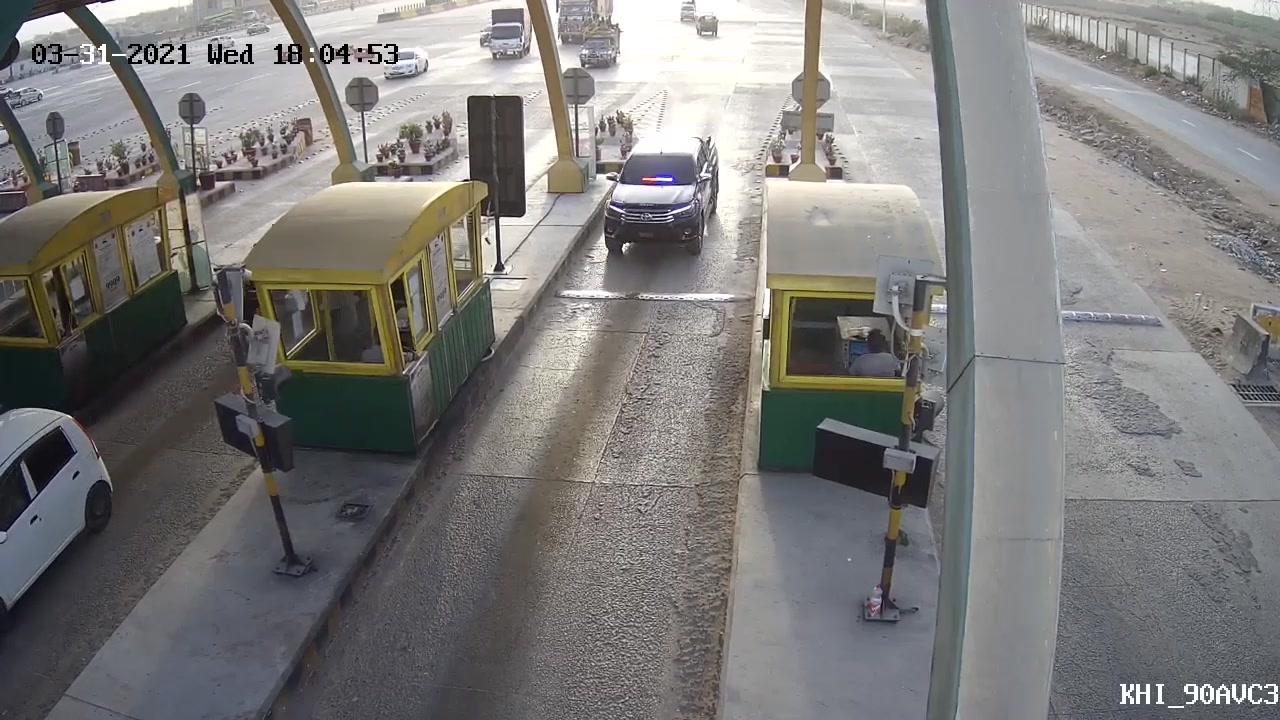F1: (586, 120, 731, 264)
